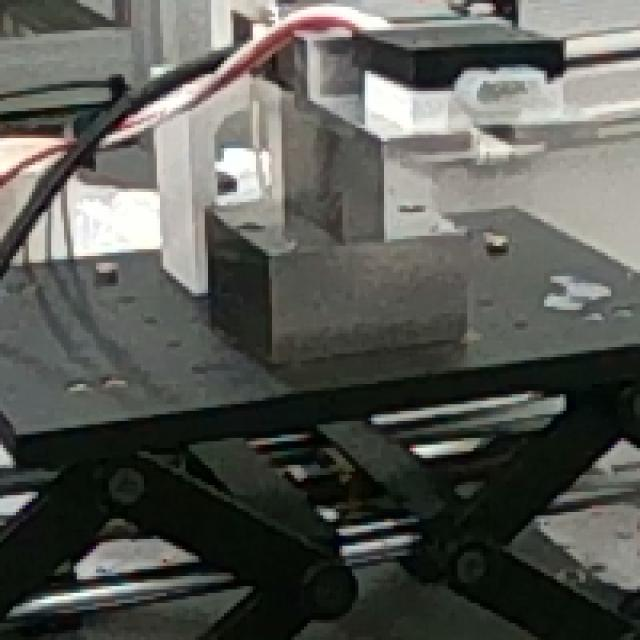target: (418, 25, 565, 148)
